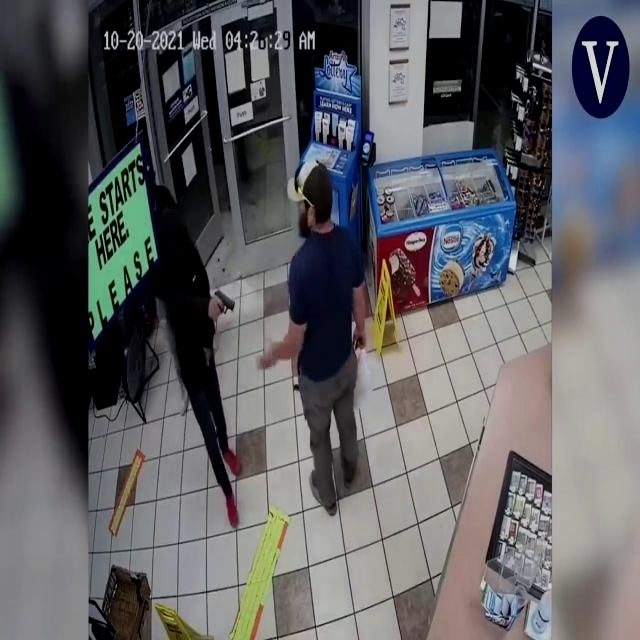gun: (205, 277, 244, 329)
